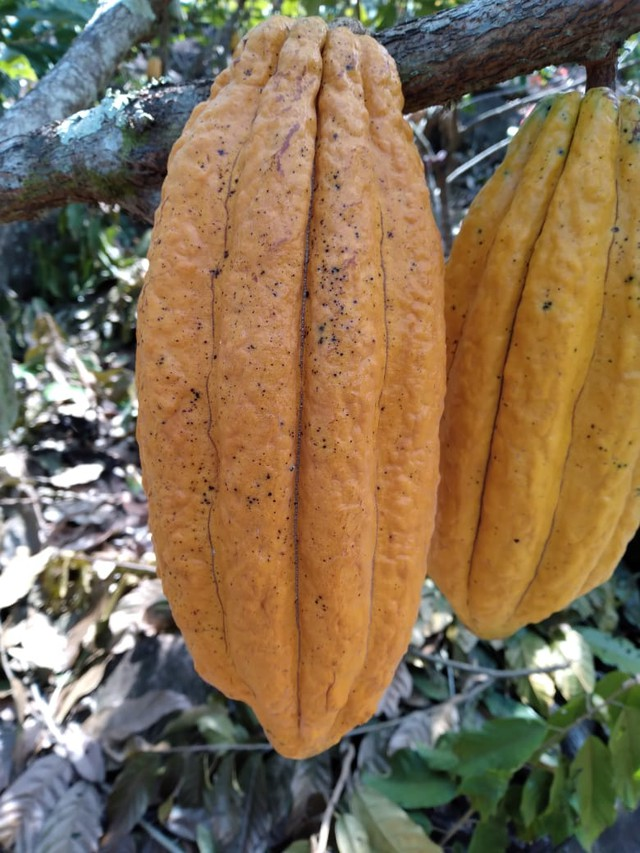Health: (117, 12, 461, 766), (426, 75, 639, 654)
